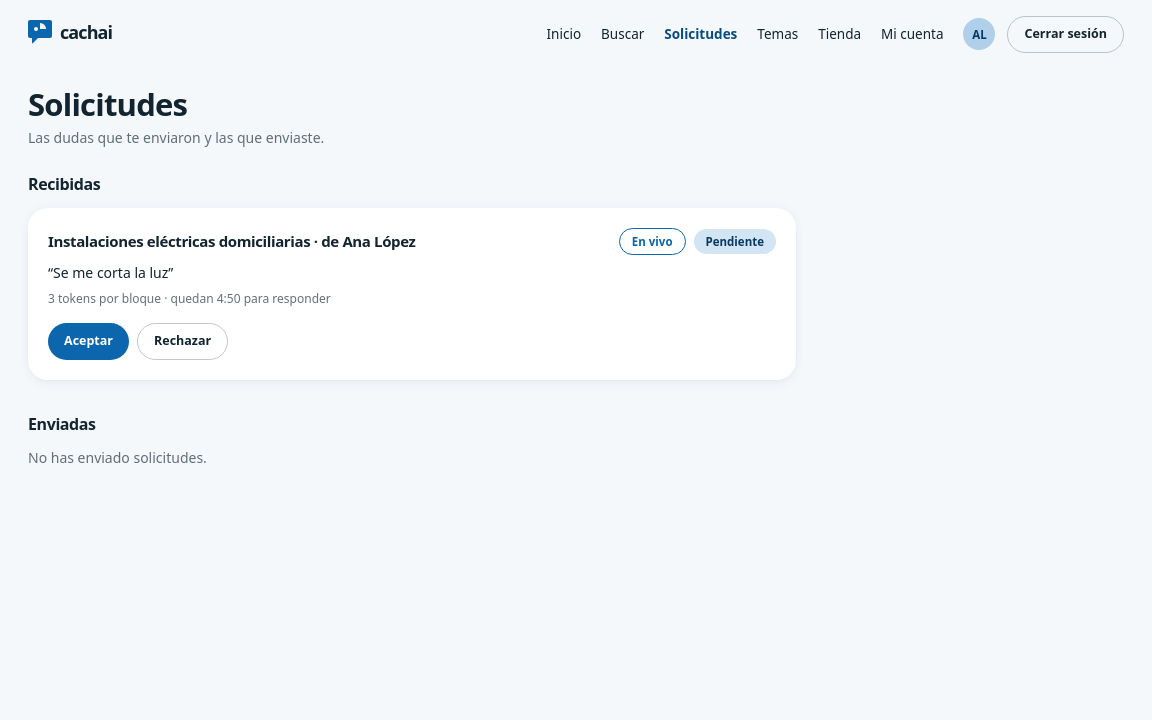
solicitudes › los errores de la API se muestran tal cual
The image size is (1152, 720).
Click the button "Aceptar" at [88, 341], box top-left (48, 323), bottom-right (129, 360)
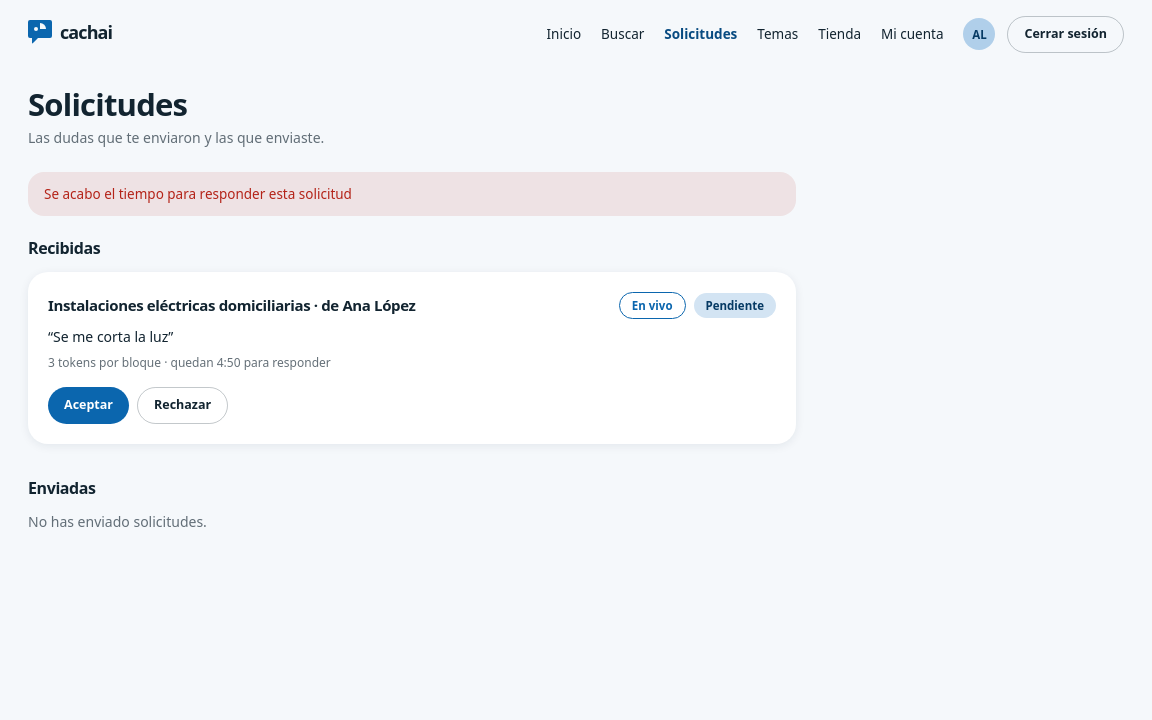
Check: the message reads "Se acabo el tiempo para responder esta solicitud", box top-left (44, 184), bottom-right (352, 202)
